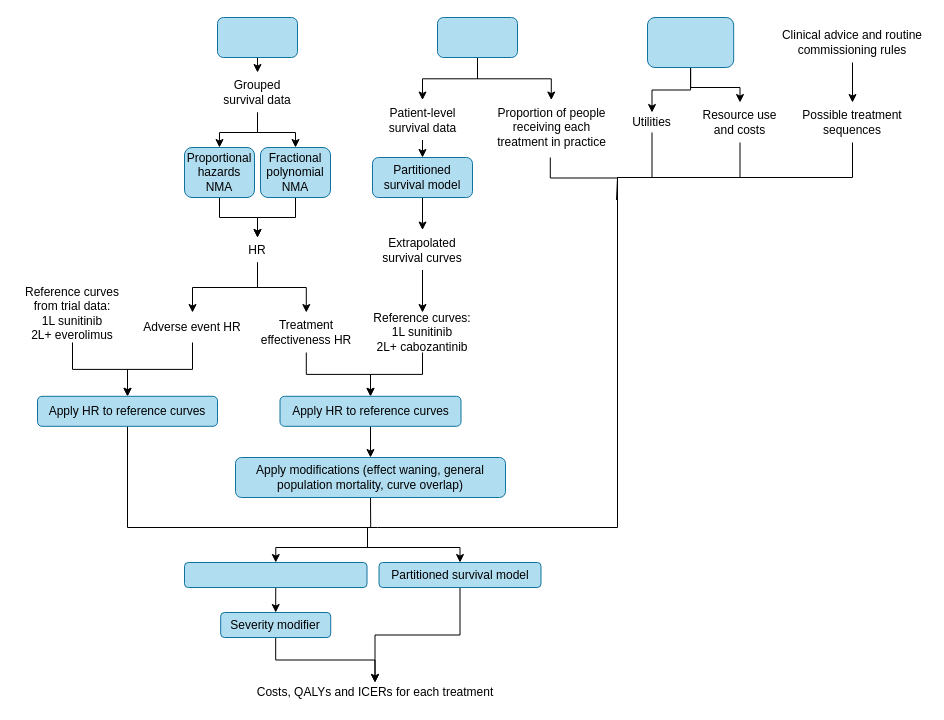
The diagram is 944 pixels wide and 720 high, and some of its shapes have lost their labels. The shapes that lost their labels are listed below. From the top down, each one's box as (x1, y1, x2, y2) in pixels, then its label:
(216, 16, 298, 58): Search for aRCC RCTs
(436, 16, 518, 58): Search for RWE
(646, 16, 734, 68): Search for economic evaluations
(184, 562, 367, 588): State transition (Markov) model
